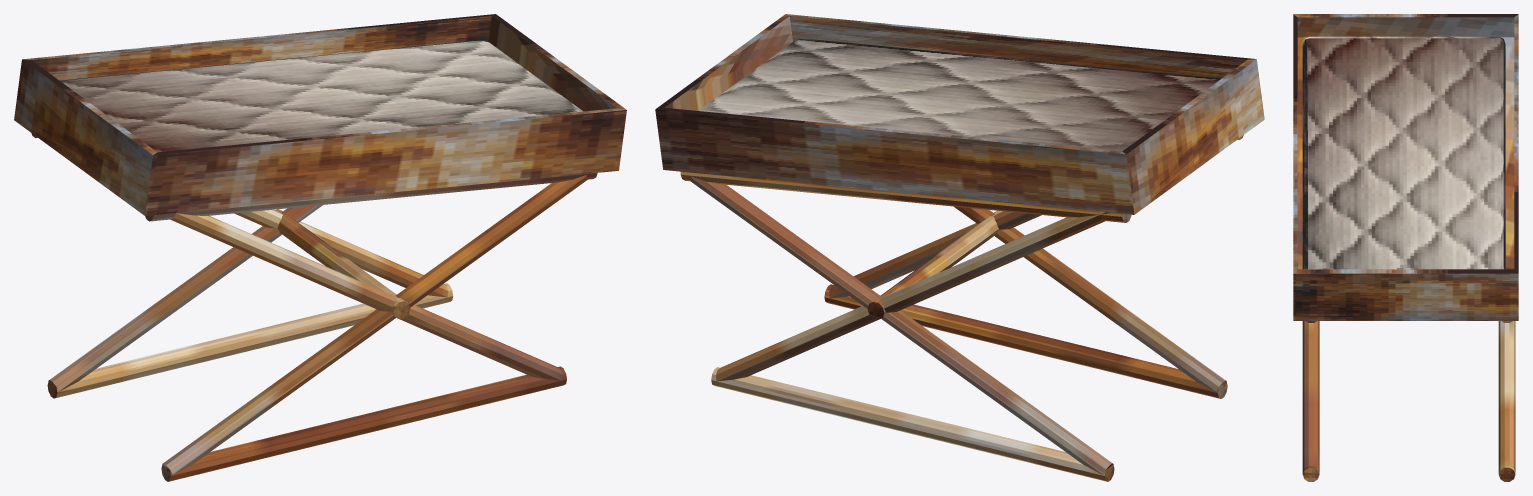
File: MedBed.obj
3 renders of one model, left to right at view 1: azimuth 30°, elevation 25°; view 2: azimuth 150°, elevation 25°; view 3: azimuth 270°, elevation 25°, orthographic. The views are drawn at different scales.
Visible parts, largest first — view 1: Cube.001, Cylinder.006, Cube; view 2: Cube.001, Cylinder.006, Cube; view 3: Cube, Cube.001, Cylinder.006.
Part boxes in pixels (x1,y1,x2,y2): Cube.001: (14, 14, 626, 215); Cylinder.006: (31, 133, 597, 481); Cube: (60, 41, 583, 152); Cube.001: (655, 14, 1264, 214); Cylinder.006: (680, 135, 1243, 481); Cube: (699, 39, 1221, 151); Cube: (1302, 36, 1505, 269); Cube.001: (1293, 14, 1518, 320); Cylinder.006: (1302, 321, 1515, 481).
Size of the model in its own units: 6.21 by 4.18 by 2.93.
Materials: 2 (2 with a texture image).
